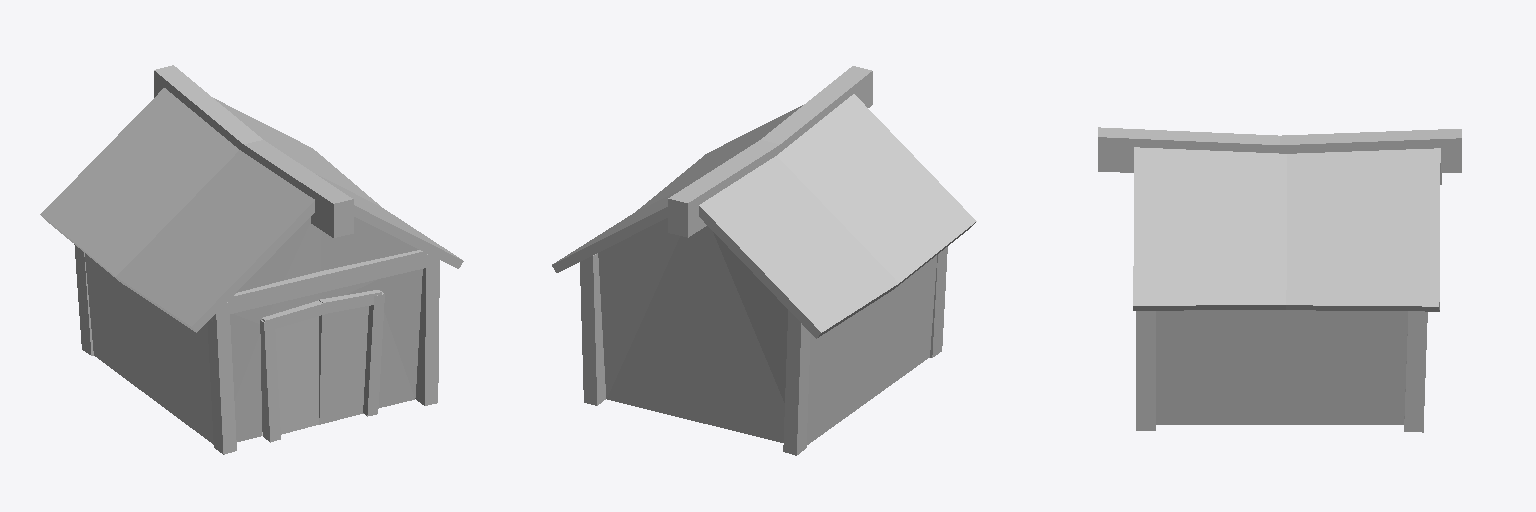
The model's file is weaver.obj.
3 views of the same model, side by side, from view 1: azimuth 30°, elevation 25°; view 2: azimuth 150°, elevation 25°; view 3: azimuth 270°, elevation 25° (orthographic).
Visible parts, largest first — view 1: EngineersShack_polySurface284.001, EngineersShack_polySurface11.001, polySurface1_EngineersShack.001, EngineersShack_polySurface13.001, EngineersShack_polySurface283.001, EngineersShack_polySurface12.001, EngineersShack_polySurface2.001, EngineersShack_polySurface5.001, EngineersShack_polySurface3.001, EngineersShack_polySurface4.001, EngineersShack_polySurface8.001, EngineersShack_polySurface10.001 (+2 smaller); view 2: EngineersShack_polySurface11.001, EngineersShack_polySurface284.001, polySurface1_EngineersShack.001, EngineersShack_polySurface283.001, EngineersShack_polySurface10.001, EngineersShack_polySurface9.001, EngineersShack_polySurface5.001; view 3: EngineersShack_polySurface283.001, EngineersShack_polySurface11.001, polySurface1_EngineersShack.001, EngineersShack_polySurface3.001, EngineersShack_polySurface9.001.
Boxes of the visible parts, x1,y1,x2,y2 form: EngineersShack_polySurface284.001: [40, 88, 314, 332]; EngineersShack_polySurface11.001: [85, 217, 422, 444]; polySurface1_EngineersShack.001: [154, 65, 353, 237]; EngineersShack_polySurface13.001: [319, 306, 368, 424]; EngineersShack_polySurface283.001: [214, 98, 463, 268]; EngineersShack_polySurface12.001: [275, 316, 318, 434]; EngineersShack_polySurface2.001: [228, 250, 426, 313]; EngineersShack_polySurface5.001: [207, 302, 236, 454]; EngineersShack_polySurface3.001: [415, 254, 439, 405]; EngineersShack_polySurface4.001: [260, 320, 280, 442]; EngineersShack_polySurface8.001: [363, 292, 384, 416]; EngineersShack_polySurface10.001: [74, 244, 93, 355]; EngineersShack_polySurface11.001: [598, 218, 936, 444]; EngineersShack_polySurface284.001: [699, 94, 976, 338]; polySurface1_EngineersShack.001: [668, 66, 872, 237]; EngineersShack_polySurface283.001: [552, 105, 802, 272]; EngineersShack_polySurface10.001: [783, 310, 810, 455]; EngineersShack_polySurface9.001: [580, 253, 605, 405]; EngineersShack_polySurface5.001: [930, 247, 947, 357]; EngineersShack_polySurface283.001: [1133, 147, 1440, 311]; EngineersShack_polySurface11.001: [1156, 310, 1407, 424]; polySurface1_EngineersShack.001: [1098, 127, 1461, 172]; EngineersShack_polySurface3.001: [1136, 311, 1155, 430]; EngineersShack_polySurface9.001: [1404, 311, 1427, 432].
Bounding box in the file's own units: 2.82 × 2.4 × 3.25.